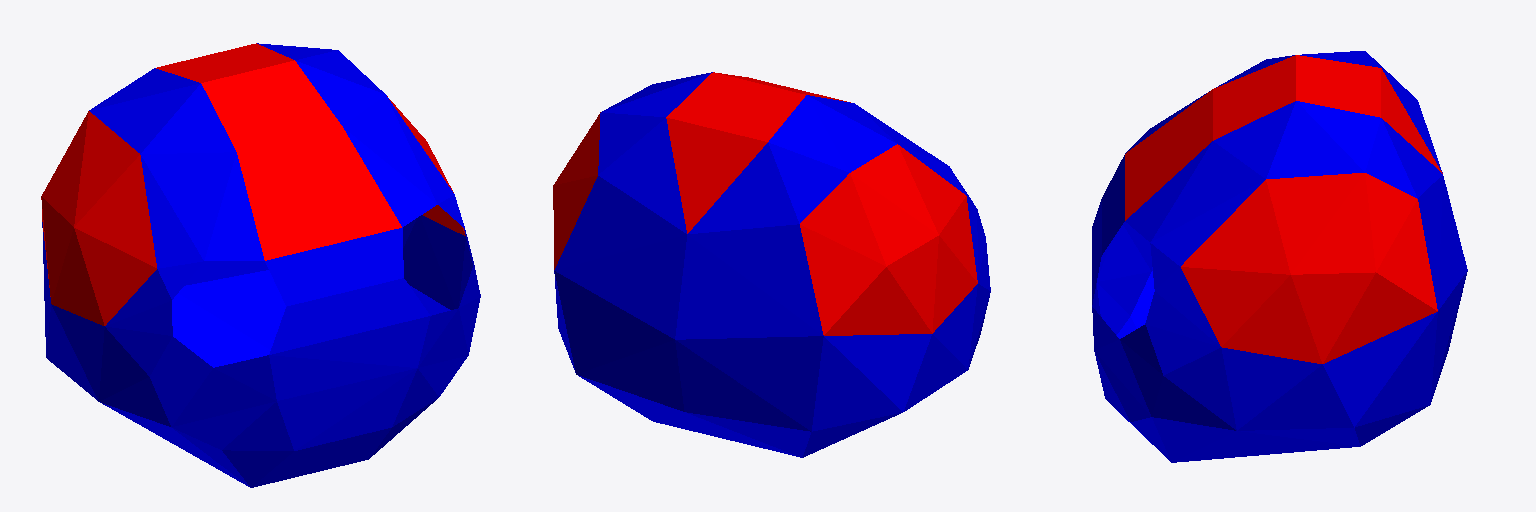
File: everythingbesidesCAP.obj
3 renders of one model, left to right at view 1: azimuth 30°, elevation 25°; view 2: azimuth 150°, elevation 25°; view 3: azimuth 270°, elevation 25°, orthographic.
Parts seen in each view (by area): view 1: Chest; view 2: Chest; view 3: Chest.
Boxes of the visible parts, x1,y1,x2,y2 form: Chest: [41, 43, 480, 487]; Chest: [553, 72, 990, 457]; Chest: [1092, 51, 1467, 462].
Size of the model in its own units: 74 by 68.3 by 65.19.